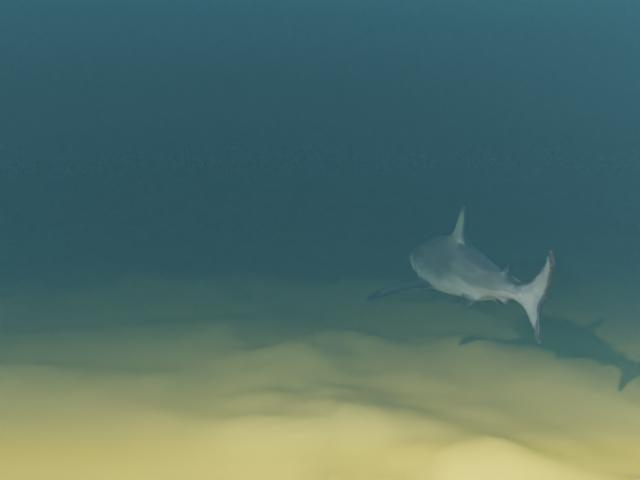Carribean Shark.001: (365, 205, 555, 343)
